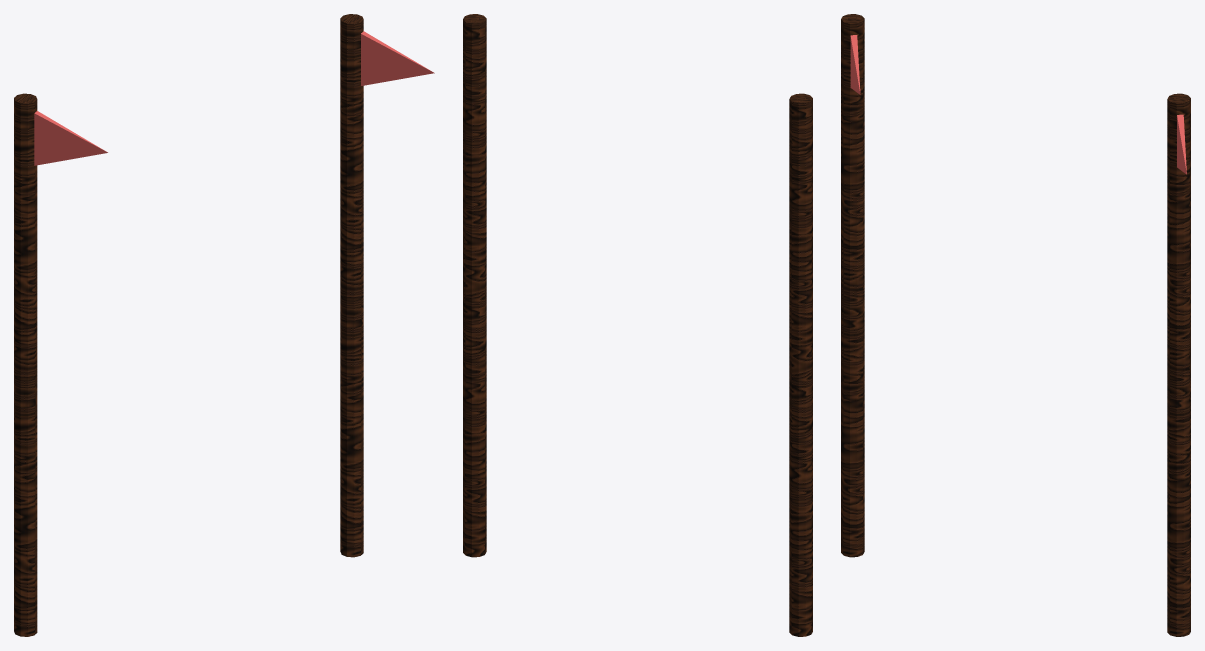
File: flag.glb
The picture shows the model from 3 angles, left to right: view 1: azimuth 30°, elevation 25°; view 2: azimuth 150°, elevation 25°; view 3: azimuth 330°, elevation 25°; orthographic projection.
Parts seen in each view (by area): view 1: Flag; view 2: Flag; view 3: Flag.
Boxes of the visible parts, x1=… form: Flag: x1=14, y1=14, x2=434, y2=636; Flag: x1=463, y1=14, x2=812, y2=636; Flag: x1=841, y1=14, x2=1190, y2=636.
Size of the model in its own units: 0.3745 by 0.5 by 0.0734.
Materials: 2 (1 with a texture image).
